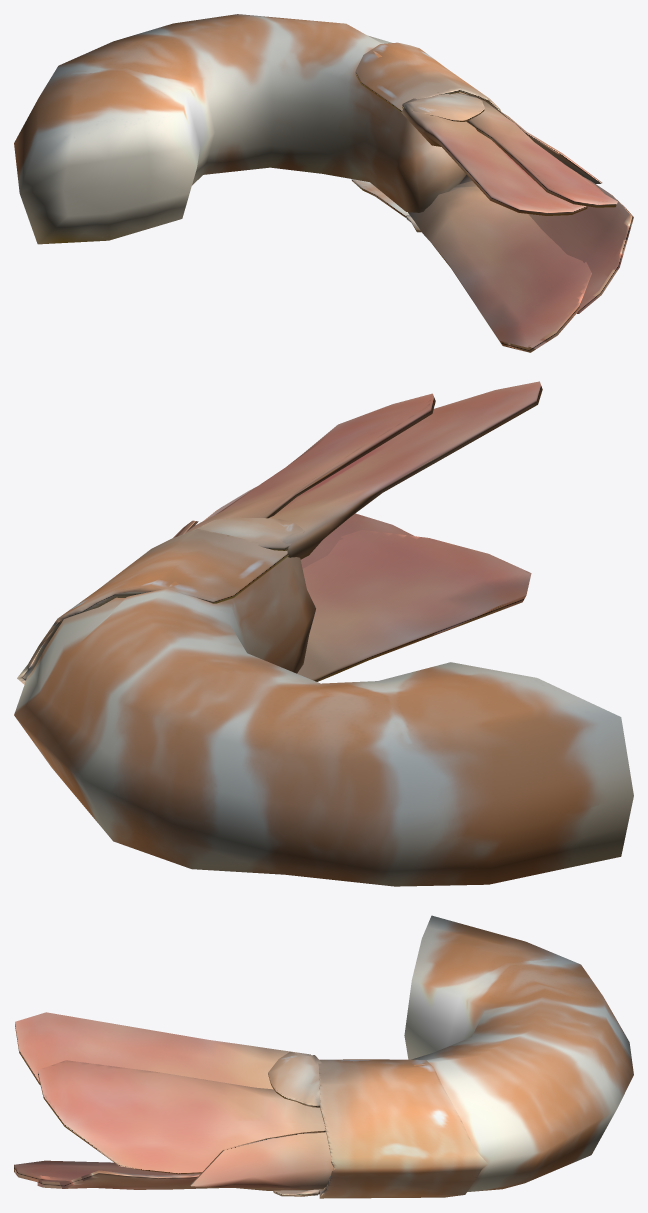
Rendered from shrimp.fbx.
3 views of the same model, one above another, from view 1: azimuth 30°, elevation 25°; view 2: azimuth 150°, elevation 25°; view 3: azimuth 270°, elevation 25° (orthographic). The views are drawn at different scales.
Parts seen in each view (by area): view 1: Shrimp, Tail; view 2: Shrimp, Tail; view 3: Tail, Shrimp.
Boxes of the visible parts, x1,y1,x2,y2 form: Shrimp: [14, 14, 467, 244]; Tail: [351, 42, 633, 352]; Shrimp: [14, 557, 633, 886]; Tail: [17, 381, 542, 684]; Tail: [14, 1012, 487, 1198]; Shrimp: [404, 915, 633, 1191].
Size of the model in its own units: 5.07 by 1.63 by 6.06.
